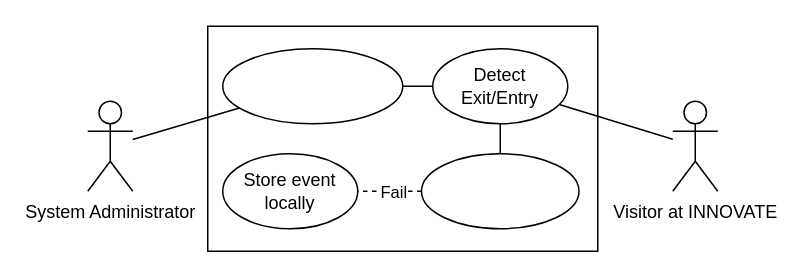
The diagram is 803 pixels wide and 278 high, and some of its shapes have lost their labels. Each missing label, with the centre of its shape:
Configure Detection Parameters: the point at 312,85
Send event to database: the point at 499,190
